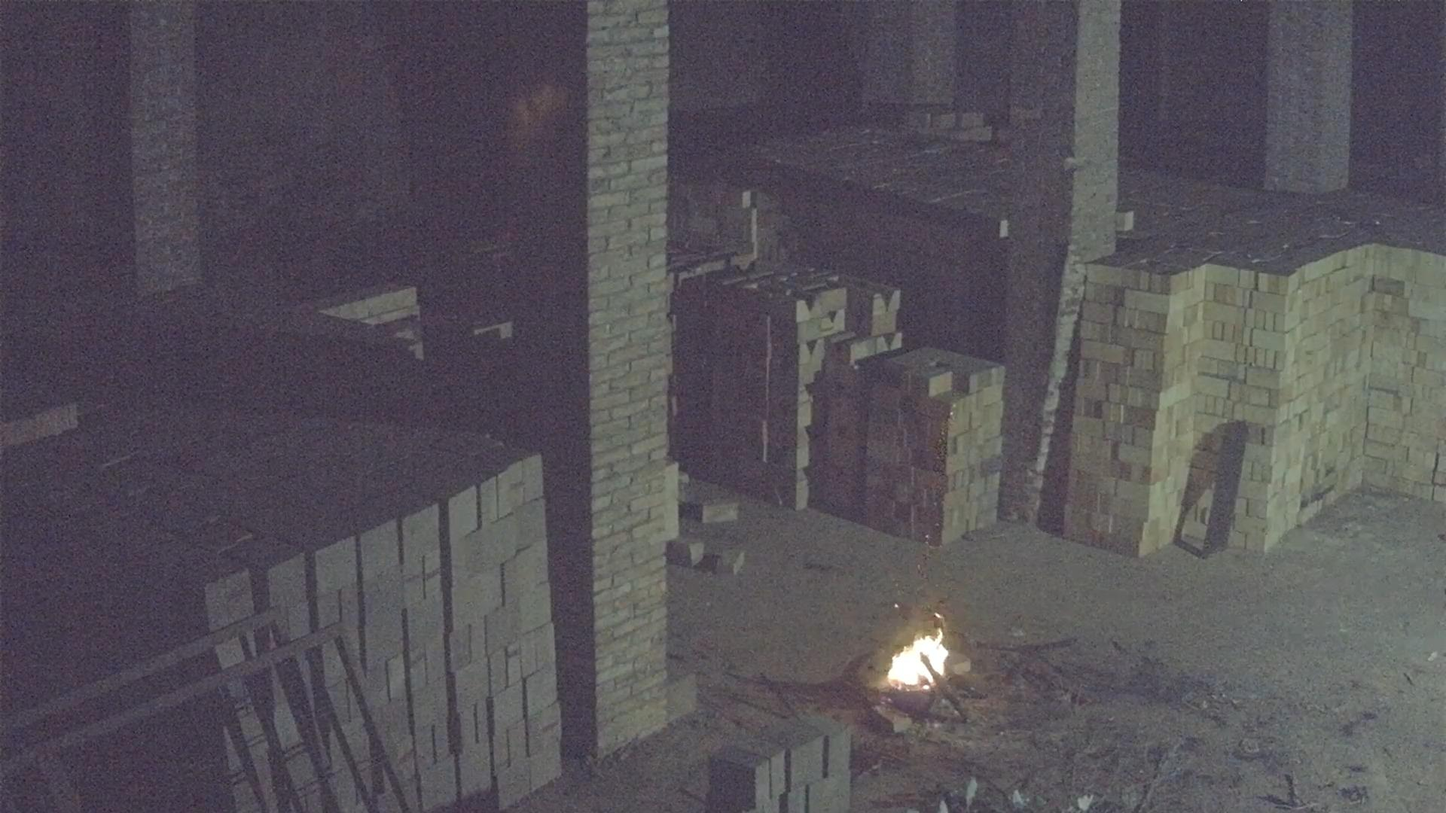fire: (887, 629, 950, 690)
